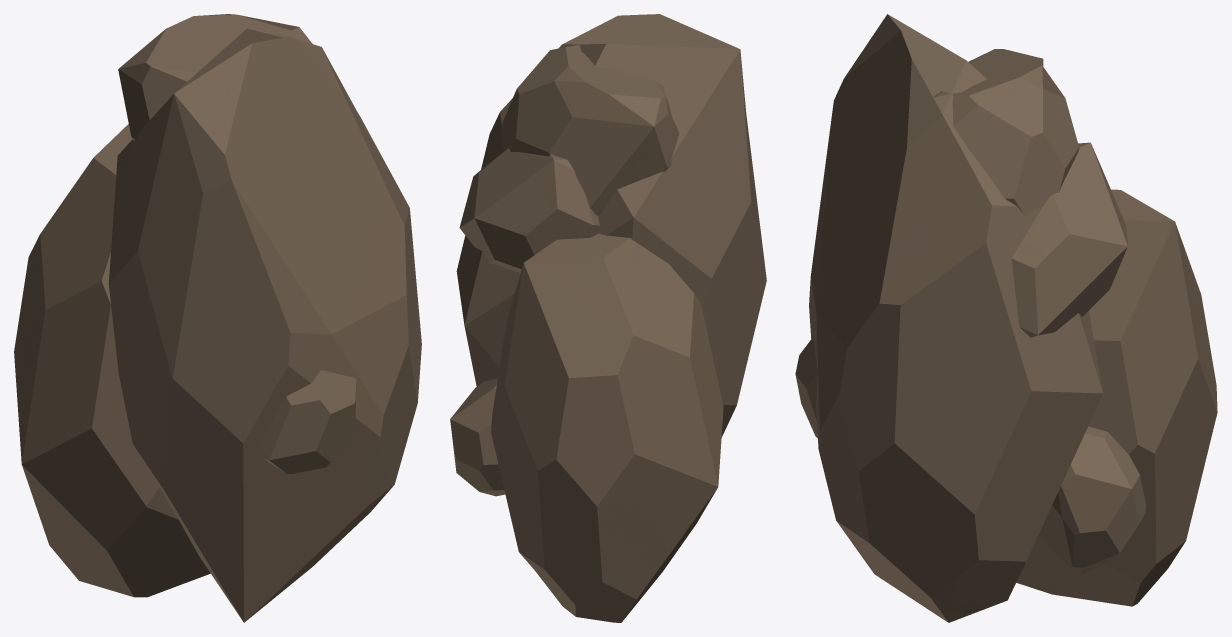
File: Rock2.fbx
3 renders of one model, left to right at view 1: azimuth 30°, elevation 25°; view 2: azimuth 150°, elevation 25°; view 3: azimuth 270°, elevation 25°, orthographic. The views are drawn at different scales.
Parts seen in each view (by area): view 1: Icosphere.006; view 2: Icosphere.006; view 3: Icosphere.006.
Boxes of the visible parts, x1=… form: Icosphere.006: x1=14, y1=14, x2=421, y2=622; Icosphere.006: x1=450, y1=14, x2=766, y2=622; Icosphere.006: x1=795, y1=14, x2=1217, y2=622.
Size of the model in its own units: 501 by 892 by 576.
1 material, 1 textured.
